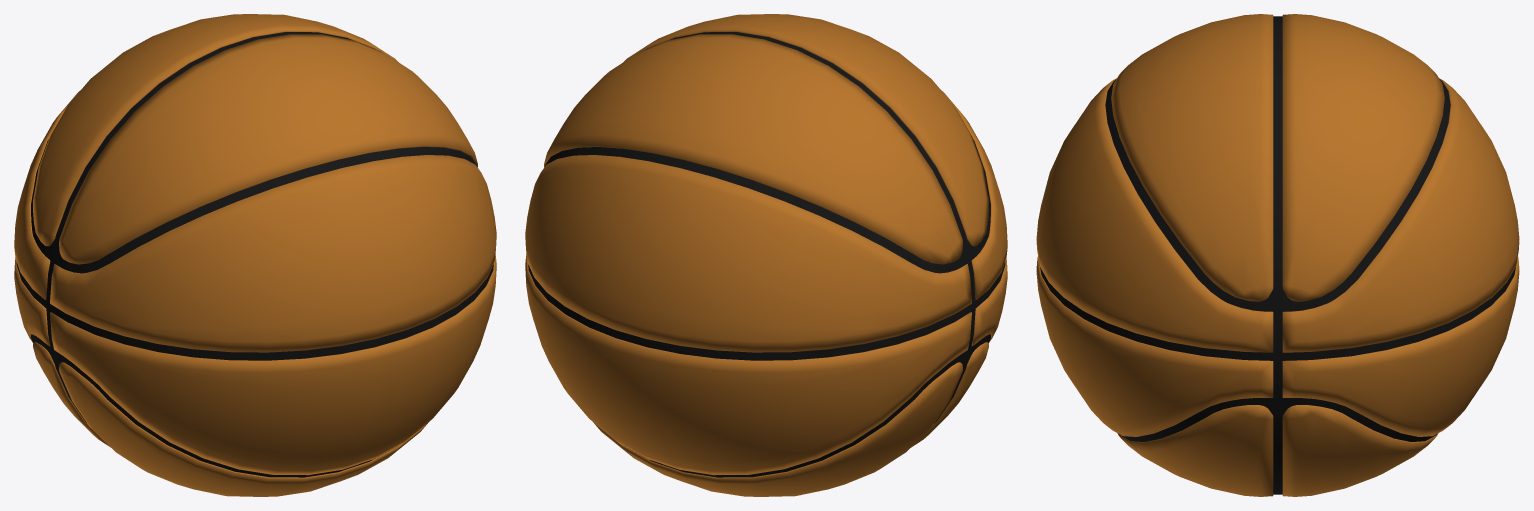
Rendered from Basketball.FBX.
3 renders of one model, left to right at view 1: azimuth 30°, elevation 25°; view 2: azimuth 150°, elevation 25°; view 3: azimuth 270°, elevation 25°, orthographic.
Visible parts, largest first — view 1: Ball; view 2: Ball; view 3: Ball.
Part boxes in pixels (x1,y1,x2,y2): Ball: (14,14,496,496); Ball: (525,14,1007,496); Ball: (1036,14,1519,496).
Bounding box in the file's own units: 186 × 187 × 187.
